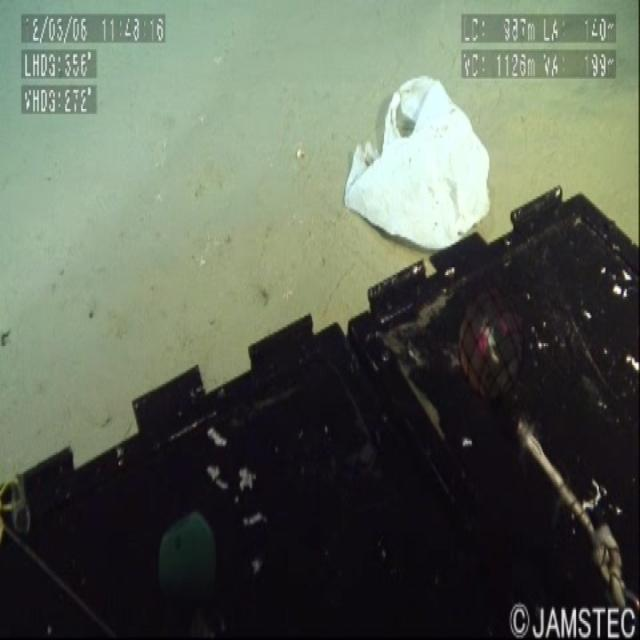Plastic: (336, 64, 495, 250)
